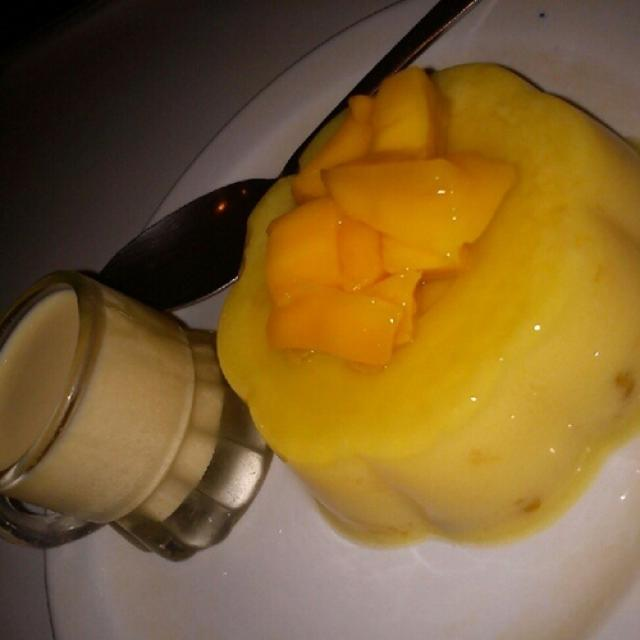蛋糕甜品: (41, 21, 623, 604)
